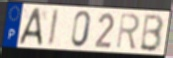0: (70, 10, 93, 49)
2: (93, 12, 115, 50)
A: (17, 7, 44, 46)
B: (138, 13, 165, 53)
I: (47, 8, 61, 48)
R: (115, 12, 141, 51)
